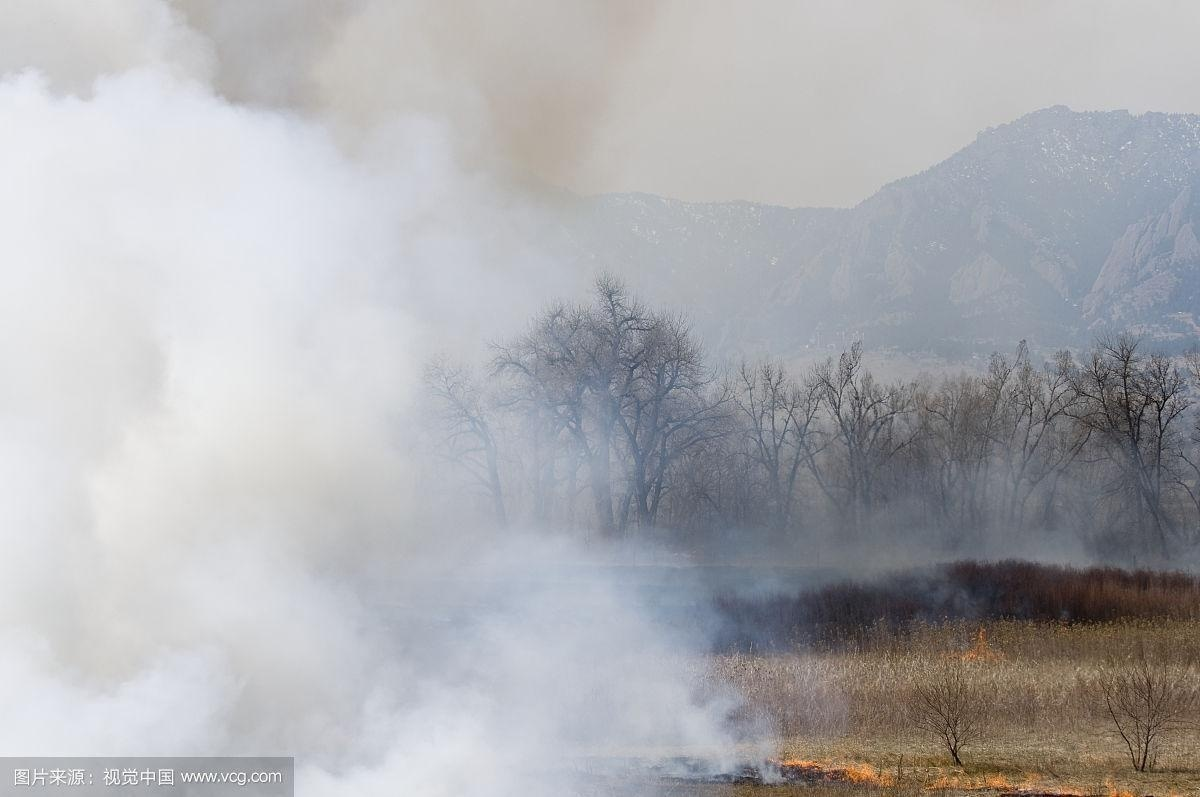fire: (955, 621, 1000, 663)
